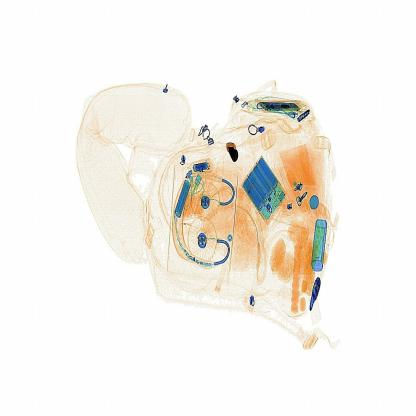wrench: (220, 133, 242, 170)
